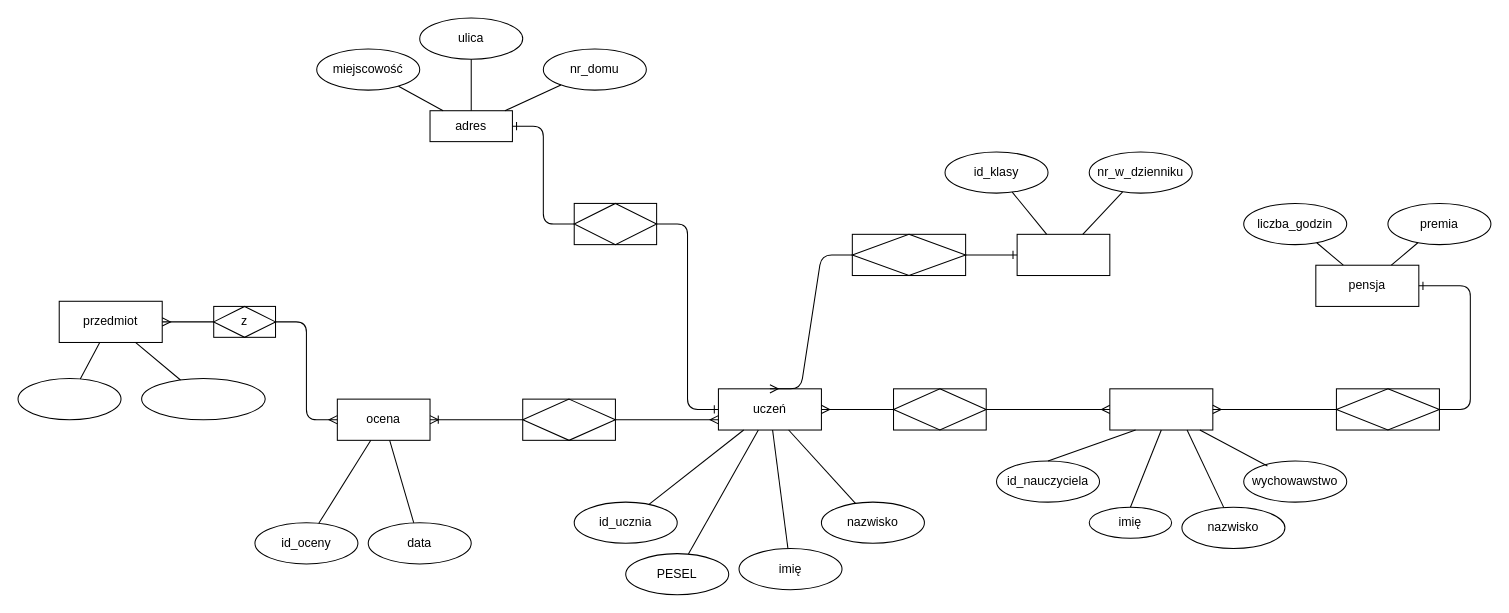
Some shapes in this 1509 by 613 pixel diagram are drawn without their labels. The shapes that lost their labels are listed below. From the top down, each one's centre as x and y in pixels, then its label:
the point at 615,223: mieszka
the point at 908,254: chodzi do
the point at 1063,254: klasa
the point at 69,398: id_przedmiotu
the point at 203,398: nazwa_przedmiotu
the point at 939,409: uczy
the point at 1161,409: nauczyciel
the point at 1387,409: ma
the point at 568,419: dostaje
